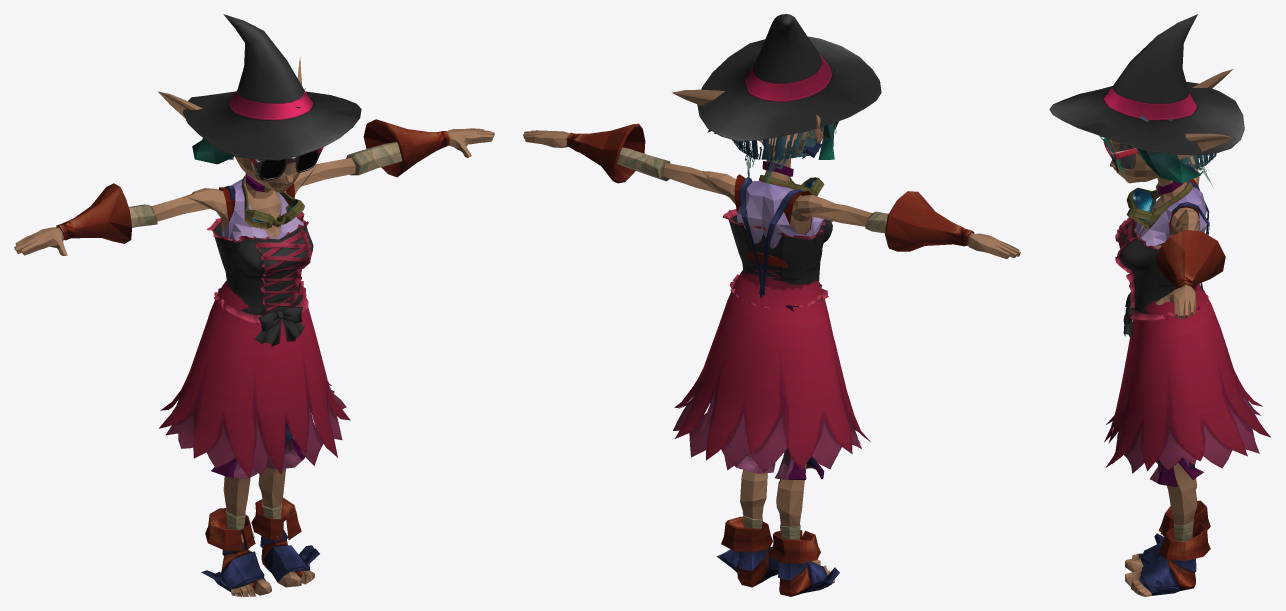
Rendered from assistant-firecanyon-lod0.glb.
3 views of the same model, side by side, from view 1: azimuth 30°, elevation 25°; view 2: azimuth 150°, elevation 25°; view 3: azimuth 270°, elevation 25° (orthographic). The views are drawn at different scales.
Visible parts, largest first — view 1: assistant-lod0, m_skirt, m_head, m_tops, m_lens; view 2: assistant-lod0, m_skirt, m_head, m_tops; view 3: m_skirt, assistant-lod0, m_head, m_tops.
Part boxes in pixels (bbox=[...]): assistant-lod0: bbox=[14, 57, 494, 596]; m_skirt: bbox=[159, 280, 350, 479]; m_head: bbox=[183, 14, 361, 160]; m_tops: bbox=[207, 212, 313, 346]; m_lens: bbox=[260, 150, 318, 178]; assistant-lod0: bbox=[523, 67, 1020, 596]; m_skirt: bbox=[673, 270, 870, 472]; m_head: bbox=[697, 14, 881, 141]; m_tops: bbox=[722, 209, 832, 309]; m_skirt: bbox=[1104, 284, 1270, 473]; assistant-lod0: bbox=[1099, 69, 1233, 596]; m_head: bbox=[1049, 14, 1244, 155]; m_tops: bbox=[1115, 217, 1208, 336].
Bounding box in the file's own units: 2.76 × 3.07 × 1.12.
26 materials, 26 textured.
